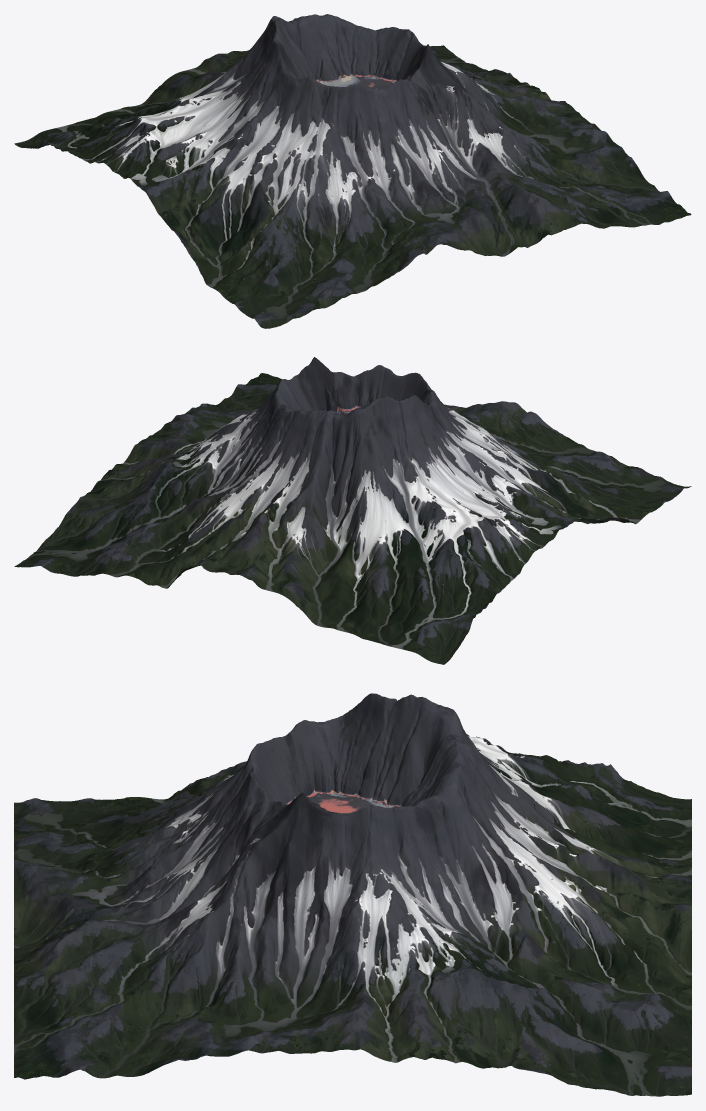
File: snowy_volcano.glb
3 renders of one model, top to bottom at view 1: azimuth 30°, elevation 25°; view 2: azimuth 150°, elevation 25°; view 3: azimuth 270°, elevation 25°, orthographic. The views are drawn at different scales.
Parts seen in each view (by area): view 1: Object_2, Object_6, Object_5, Object_3, Object_4; view 2: Object_4, Object_5, Object_2, Object_3, Object_6; view 3: Object_3, Object_4, Object_2, Object_5, Object_6.
Boxes of the visible parts, box(x1,y1,x2,y2) form: Object_2: box(132, 27, 597, 328); Object_6: box(30, 21, 684, 327); Object_5: box(25, 16, 659, 277); Object_3: box(14, 45, 691, 245); Object_4: box(20, 14, 562, 177); Object_4: box(31, 358, 552, 662); Object_5: box(128, 373, 590, 660); Object_2: box(189, 357, 691, 533); Object_3: box(14, 365, 563, 664); Object_6: box(267, 365, 687, 654); Object_3: box(14, 752, 691, 1096); Object_4: box(174, 696, 690, 1085); Object_2: box(14, 703, 476, 1002); Object_5: box(14, 694, 689, 1058); Object_6: box(14, 693, 671, 1073).
Size of the model in its own units: 0.999 by 0.3605 by 0.999.
1 material, 1 textured.
